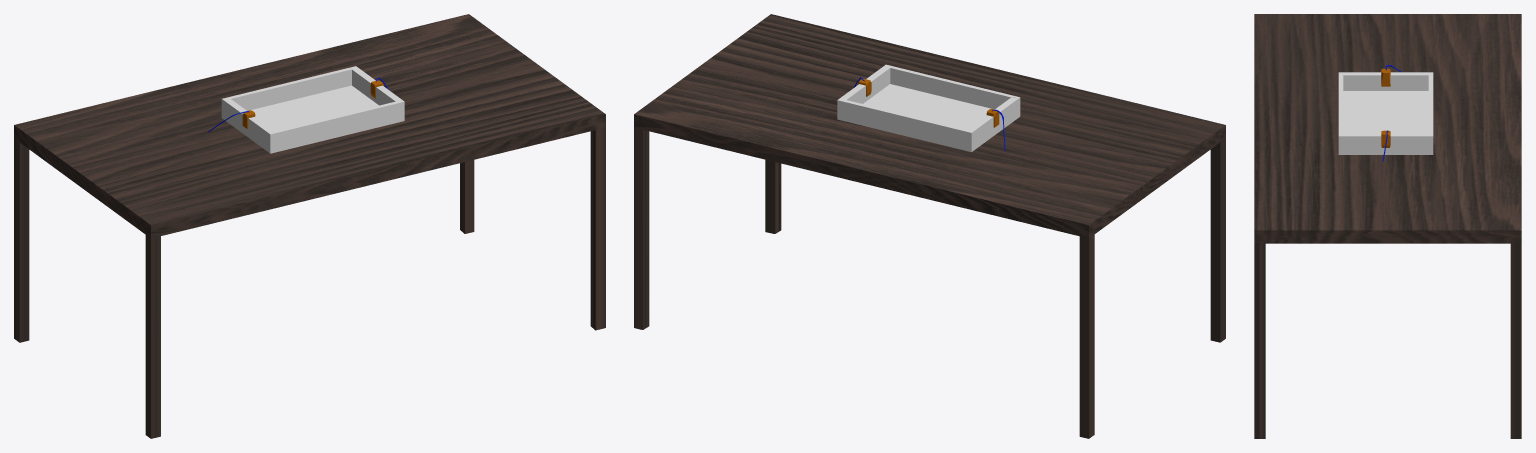
File: electricstol.fbx
3 views of the same model, side by side, from view 1: azimuth 30°, elevation 25°; view 2: azimuth 150°, elevation 25°; view 3: azimuth 270°, elevation 25° (orthographic). The views are drawn at different scales.
Parts seen in each view (by area): view 1: Cube; view 2: Cube; view 3: Cube.
Part boxes in pixels (x1,y1,x2,y2): Cube: [14, 14, 605, 438]; Cube: [634, 14, 1225, 438]; Cube: [1254, 14, 1521, 438].
Bounding box in the file's own units: 549 × 275 × 286.
